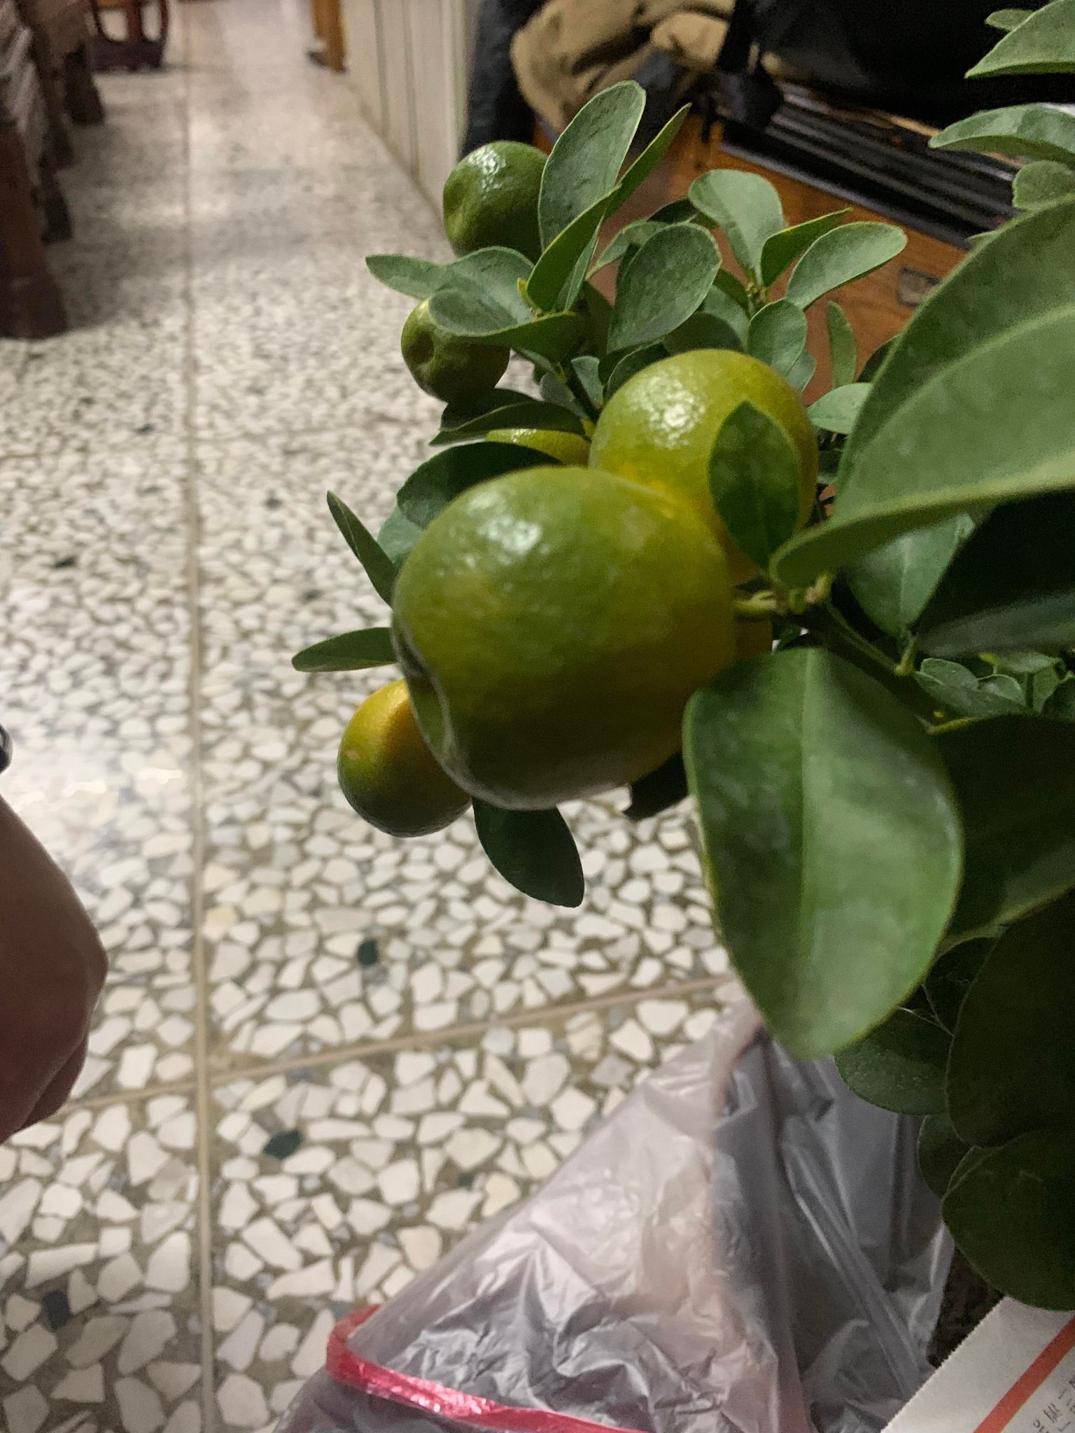Kumquat: (385, 461, 726, 804), (578, 320, 829, 561), (326, 683, 473, 844), (434, 136, 549, 255), (397, 295, 517, 403)
